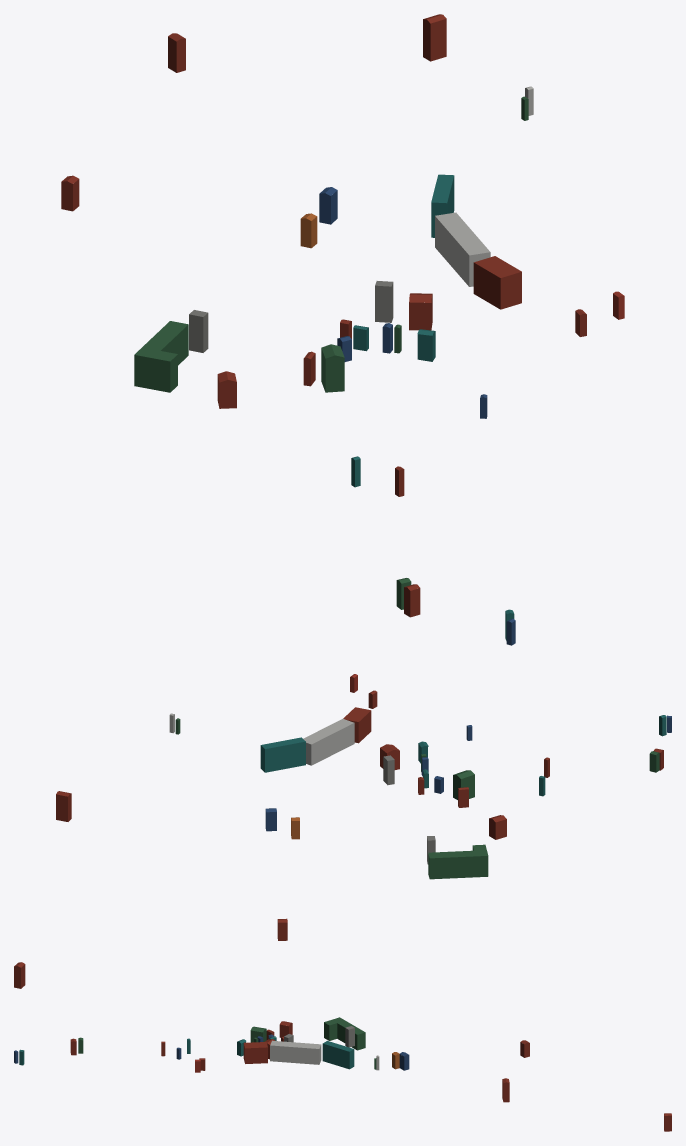
Rendered from near-15-27358-14882.464c3c00.glb.
3 renders of one model, top to bottom at view 1: azimuth 30°, elevation 25°; view 2: azimuth 150°, elevation 25°; view 3: azimuth 270°, elevation 25°, orthographic. The views are drawn at different scales.
Bounding box in the file's own units: 315 × 127 × 753.
